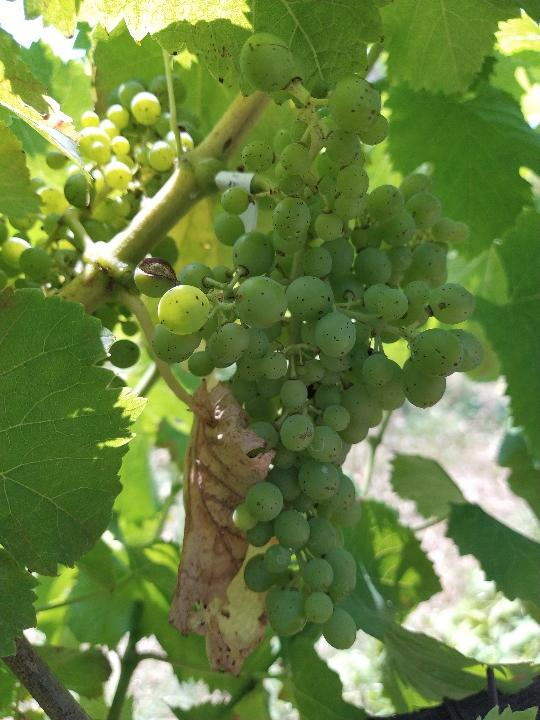grape: (131, 30, 483, 653)
